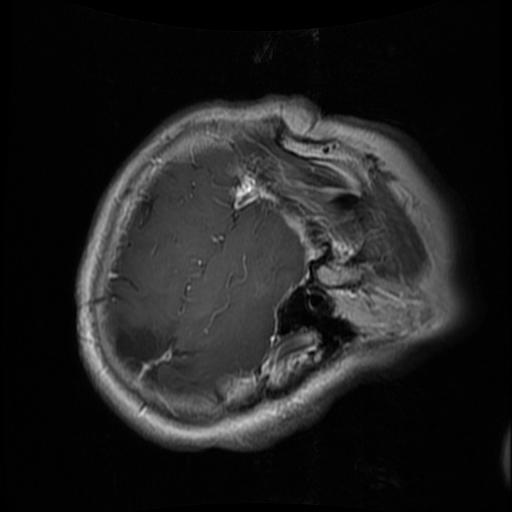glioma: (115, 330, 195, 386)
